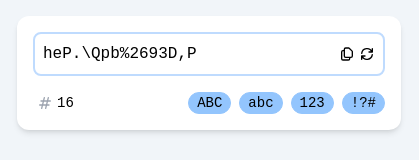
Test: Application tests › displays an error if the specified length of the password is 0
This screenshot has width=419, height=160.
Type "0" into the element with test id "password-length" at (60, 103), box top-left (33, 92), bottom-right (87, 114)
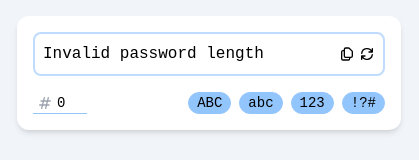
Now the text with test id "generated-password" reads "Invalid password length", box top-left (43, 45), bottom-right (264, 63)
